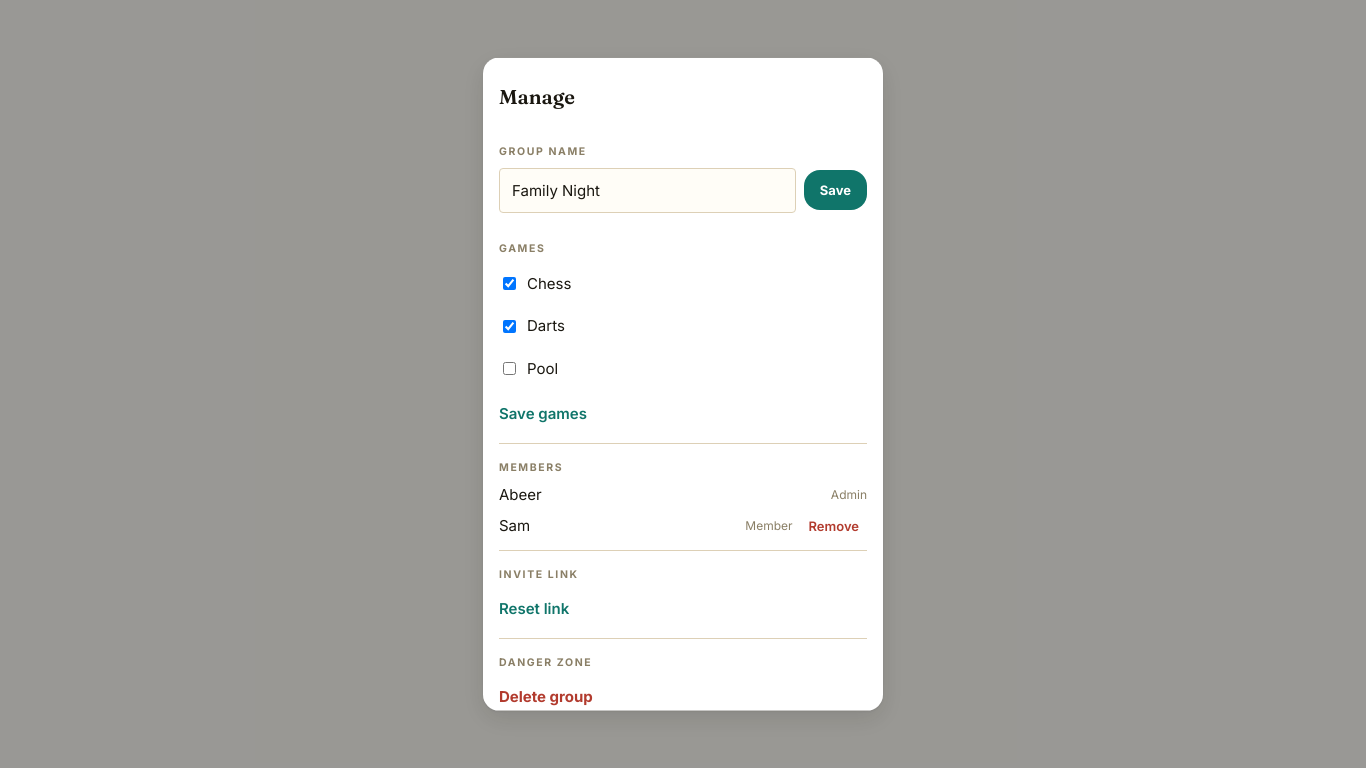
Test: ManageGroup › removes a member and re-fetches the member list
Expected: the text "Sam" is shown, [499,516,530,535]
Click the button "Remove" at (834, 526), box [800,514,867,538]
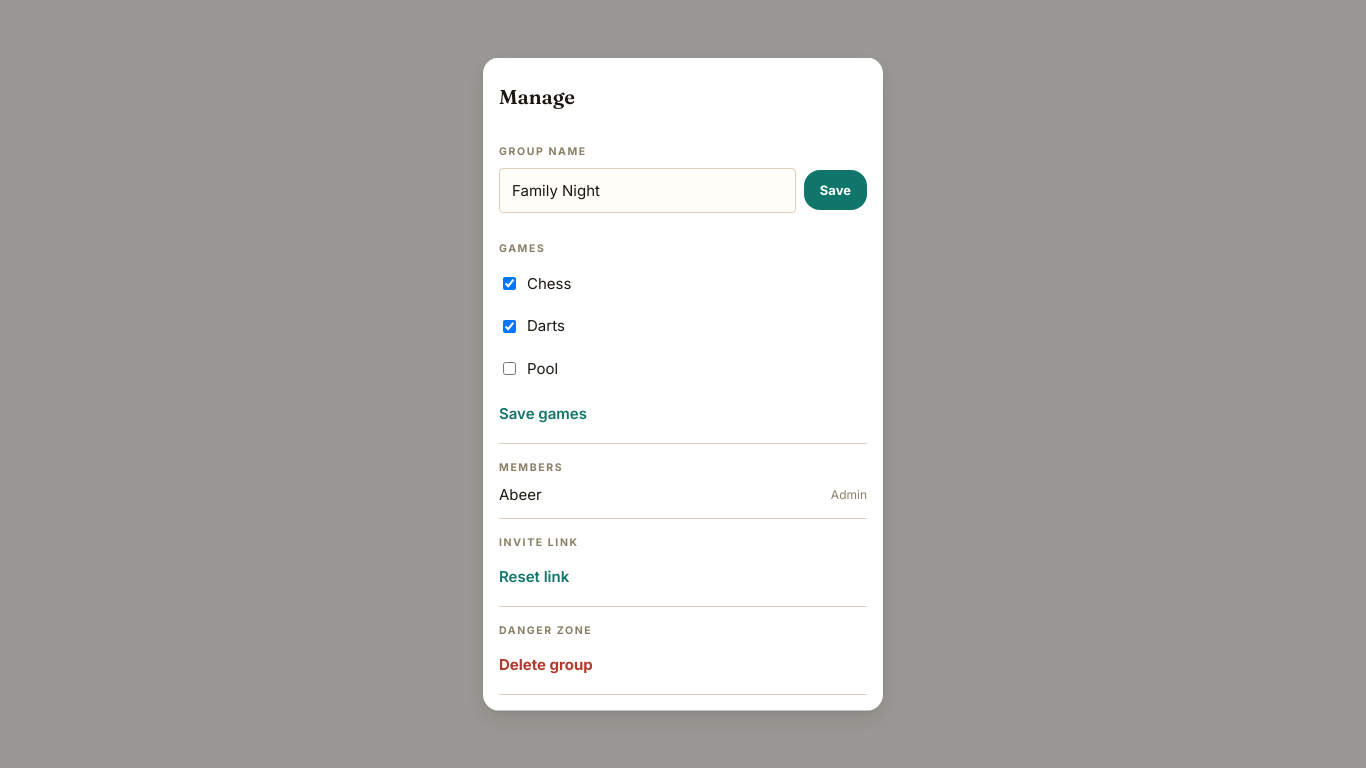
Now the text "Sam" is gone
